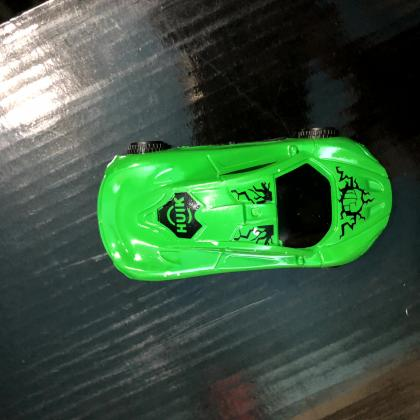Car: (94, 124, 397, 285)
